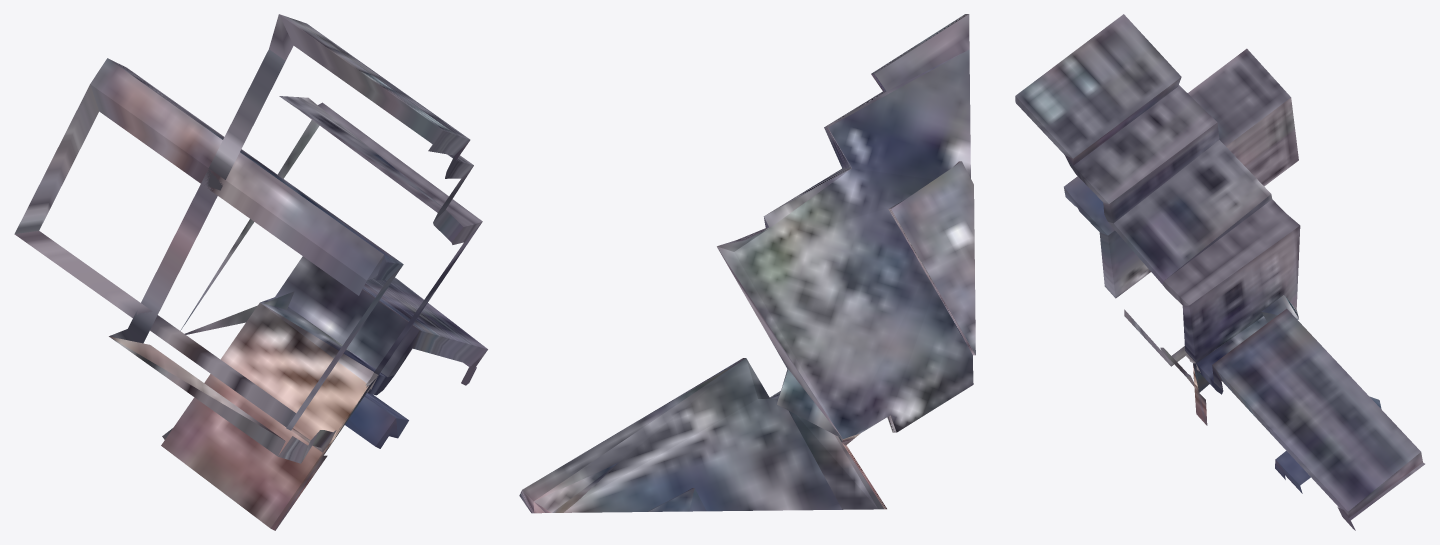
3 views of the same model, side by side, from view 1: azimuth 30°, elevation 25°; view 2: azimuth 150°, elevation 25°; view 3: azimuth 270°, elevation 25° (orthographic). The views are drawn at different scales.
Size of the model in its own units: 25.67 by 27.98 by 26.2.
Materials: 1 (1 with a texture image).
